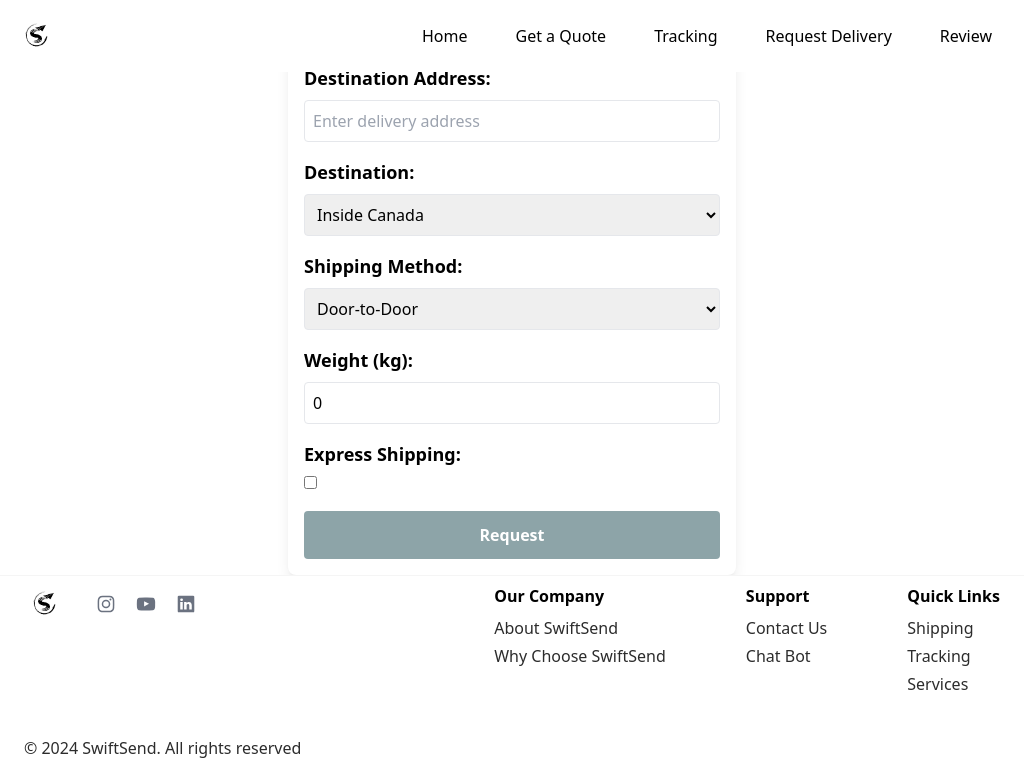
Test: Delivery Page › should display an error message when required fields are missing
(page scrolled)
# Trigger the request without filling any fields
Click the button "Request": (512, 535) [304, 511, 720, 559]
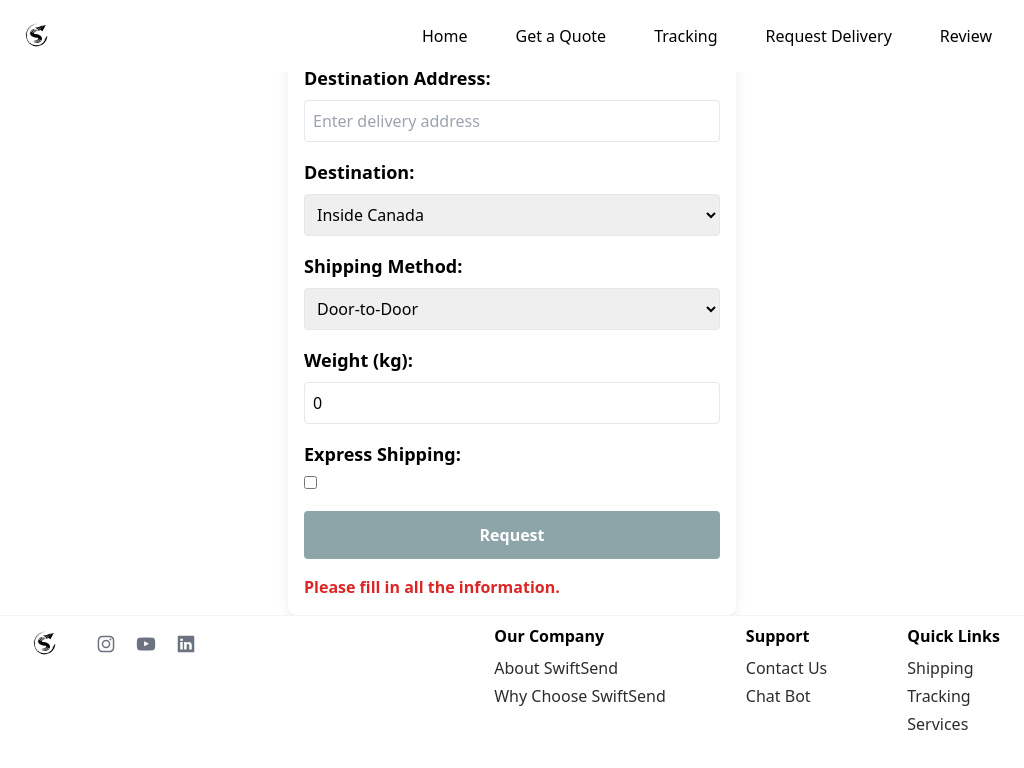
Expected: the text "Please fill in all the information." is shown, [304, 576, 560, 598]
